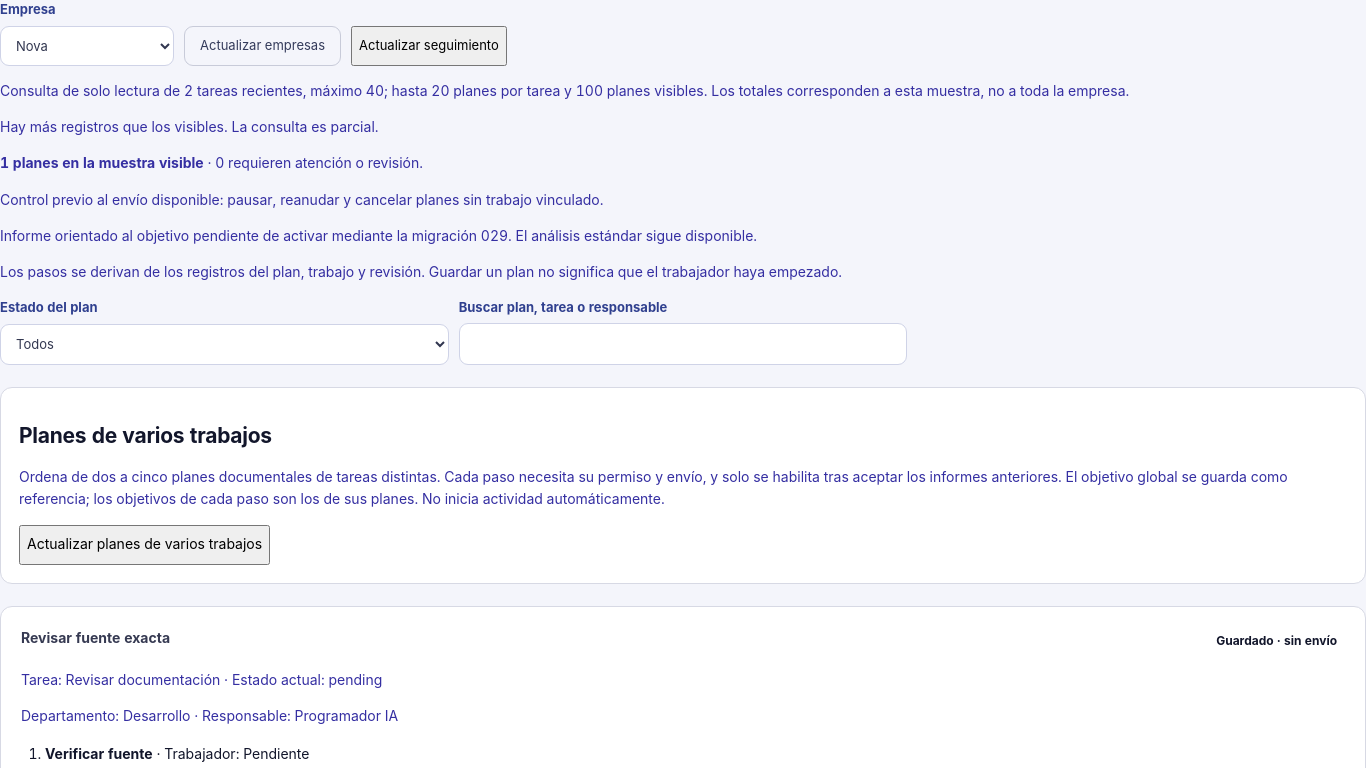
Test: central plan tracking › filters saved plans and keeps the sample warning visible
Expected: the text "Guardado · sin envío" is shown, [1216,633,1337,648]
Type "inexistente" into the search field labelled "Buscar plan, tarea o responsable".
click(683, 344); type("inexistente")  # box [459,323,907,365]
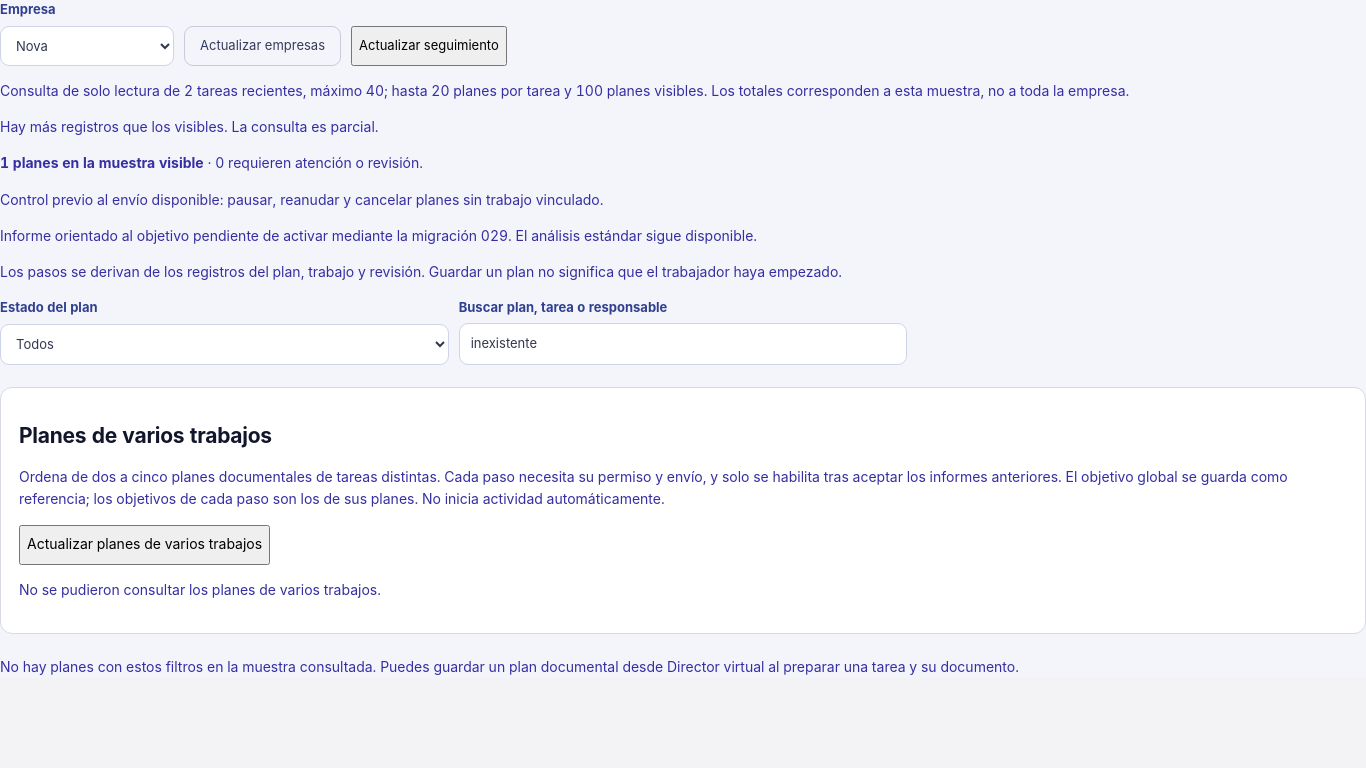
Expected: the text "Hay más registros que los visibles. La consulta es parcial." is shown, [0,118,378,135]
Now the text "No hay planes con estos filtros" is shown, box [0,658,1019,675]
